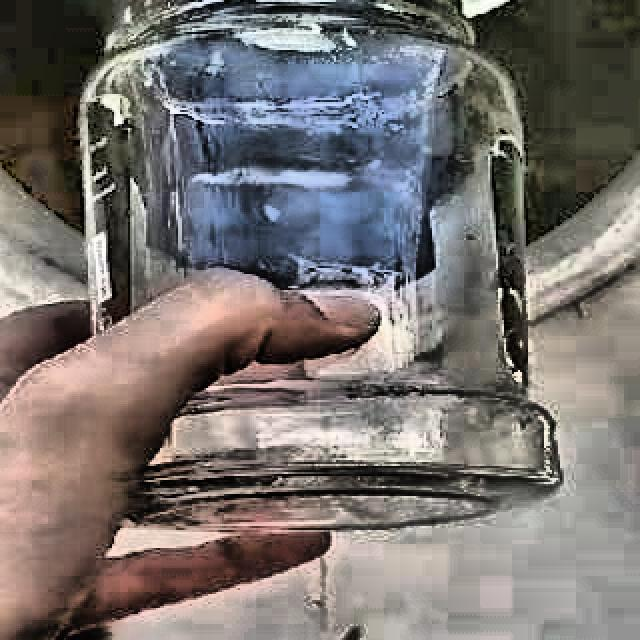glass: (80, 0, 560, 531)
